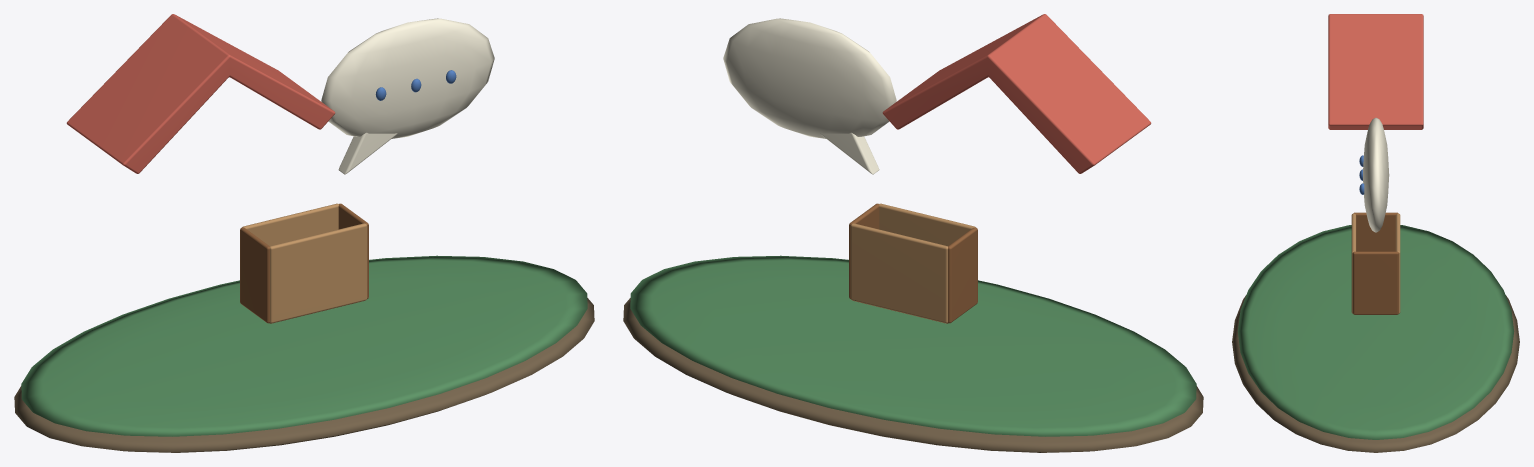
File: complete-second-shelter-announcement.glb
The picture shows the model from 3 angles, left to right: view 1: azimuth 30°, elevation 25°; view 2: azimuth 150°, elevation 25°; view 3: azimuth 270°, elevation 25°; orthographic projection. The views are drawn at different scales.
Visible parts, largest first — view 1: complete-second-shelter-announcement_surface_01, complete-second-shelter-announcement_surface_02, complete-second-shelter-announcement_surface_03, complete-second-shelter-announcement_surface_00, complete-second-shelter-announcement_surface_05, complete-second-shelter-announcement_surface_06; view 2: complete-second-shelter-announcement_surface_01, complete-second-shelter-announcement_surface_02, complete-second-shelter-announcement_surface_03, complete-second-shelter-announcement_surface_00, complete-second-shelter-announcement_surface_05, complete-second-shelter-announcement_surface_06; view 3: complete-second-shelter-announcement_surface_01, complete-second-shelter-announcement_surface_02, complete-second-shelter-announcement_surface_00, complete-second-shelter-announcement_surface_06, complete-second-shelter-announcement_surface_03, complete-second-shelter-announcement_surface_05.
Boxes of the visible parts, <box> form: complete-second-shelter-announcement_surface_01: <box>21,255,587,436</box>; complete-second-shelter-announcement_surface_02: <box>66,14,335,173</box>; complete-second-shelter-announcement_surface_03: <box>321,18,494,174</box>; complete-second-shelter-announcement_surface_00: <box>14,298,594,452</box>; complete-second-shelter-announcement_surface_05: <box>242,203,367,323</box>; complete-second-shelter-announcement_surface_06: <box>240,203,368,323</box>; complete-second-shelter-announcement_surface_01: <box>630,255,1196,436</box>; complete-second-shelter-announcement_surface_02: <box>882,14,1151,173</box>; complete-second-shelter-announcement_surface_03: <box>723,18,896,174</box>; complete-second-shelter-announcement_surface_00: <box>623,298,1203,452</box>; complete-second-shelter-announcement_surface_05: <box>850,203,975,323</box>; complete-second-shelter-announcement_surface_06: <box>849,203,977,323</box>; complete-second-shelter-announcement_surface_01: <box>1237,225,1514,439</box>; complete-second-shelter-announcement_surface_02: <box>1328,14,1423,129</box>; complete-second-shelter-announcement_surface_00: <box>1232,295,1519,452</box>; complete-second-shelter-announcement_surface_06: <box>1353,212,1398,314</box>; complete-second-shelter-announcement_surface_03: <box>1363,117,1389,232</box>; complete-second-shelter-announcement_surface_05: <box>1351,213,1400,313</box>.
Size of the model in its own units: 4.56 by 2.87 by 2.5.
